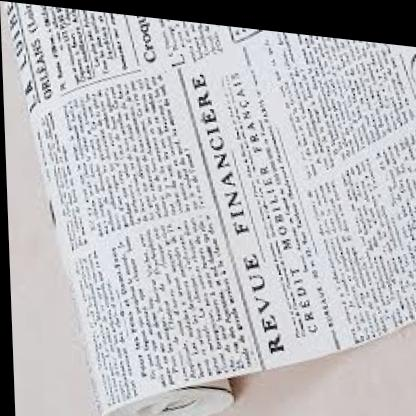Paper: (13, 1, 416, 416)
